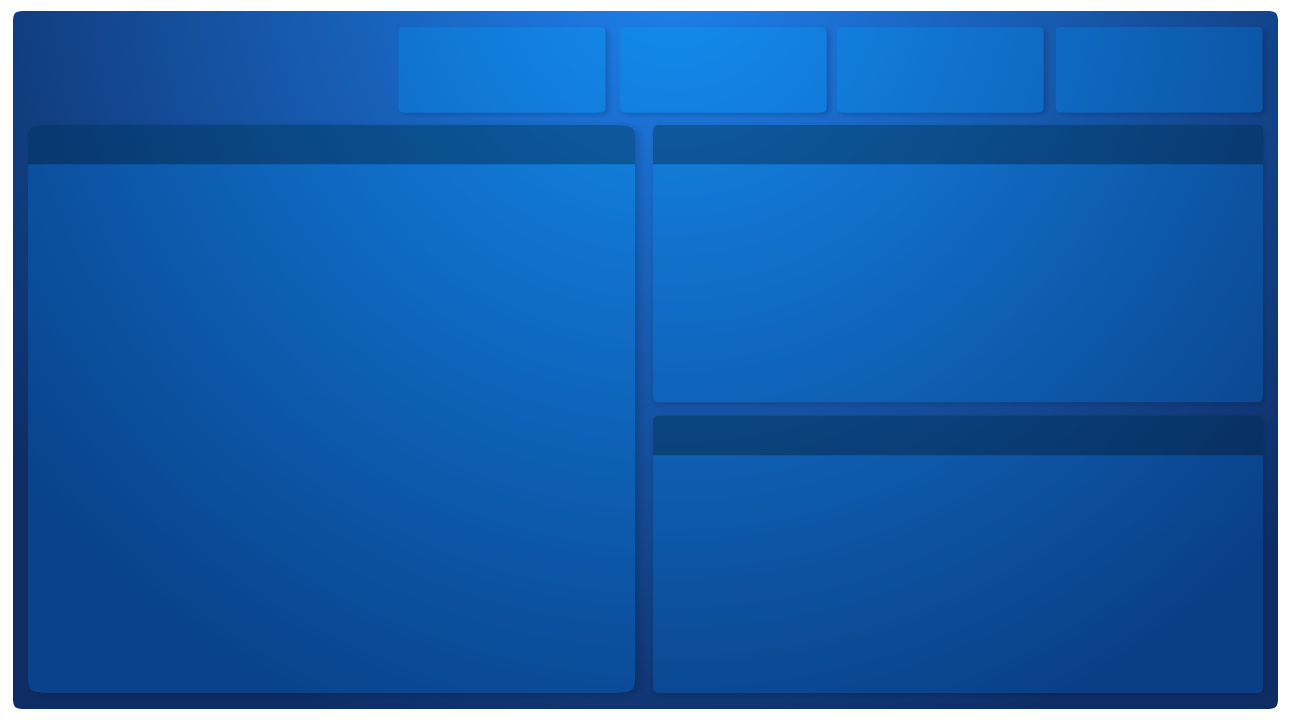

The dashboard page shown, as its layout file describes it:
{"tool":"powerbi","page":{"name":"Página 1","canvas":[1290,720],"ordinal":0},"visuals":[{"type":"simpleImageEBC4593F96F1425FB3D84C5BF02B5075","fields":{"imageURL":["tObras.ObraURL"]},"box":[36.3,170.6,340.1,509.7],"z":0},{"type":"slicer","fields":{"Values":["tObras.ObraNome"]},"box":[402.9,28.4,200.9,78.4],"z":1},{"type":"card","fields":{"Values":["Min(tObras.ObraNome)"]},"box":[85.3,120.6,280.3,42.2],"z":2},{"type":"image","box":[47.1,120.6,79.4,42.2],"z":3},{"type":"clusteredColumnChart","fields":{"Category":["tCalendario.Nome Mês"],"Y":["Sum(tObrasConsolidadas.Custo Planejado)","Sum(tObrasConsolidadas.Custo Real)"]},"box":[402.9,170.6,853.8,224.5],"z":4},{"type":"textbox","box":[474.4,120.6,251.9,42.2],"z":5},{"type":"image","box":[417.6,120.6,67.6,42.2],"z":6},{"type":"lineClusteredColumnComboChart","fields":{"Category":["tCalendario.Nome Mês"],"Y":["Medidas.Soma Planejado","Medidas.Soma Real"],"Y2":["Medidas.Soma Acum. Plan","Medidas.Soma Acum. Real"]},"box":[402.9,458.8,853.8,228.4],"z":7},{"type":"textbox","box":[474.4,410.7,251.9,42.2],"z":8},{"type":"image","box":[417.6,410.7,56.9,42.2],"z":9}]}

Visuals, with their boxes in screenshot pixels (x1, y1, x2, y2), scaled from the page's 1290x720 canvas onto the 1290x720 screenshot:
simpleImageEBC4593F96F1425FB3D84C5BF02B5075 - tObras.ObraURL: locate(36, 171, 376, 680)
slicer - tObras.ObraNome: locate(403, 28, 604, 107)
card - Min(tObras.ObraNome): locate(85, 121, 366, 163)
image: locate(47, 121, 126, 163)
clusteredColumnChart - tCalendario.Nome Mês x Sum(tObrasConsolidadas.Custo Planejado): locate(403, 171, 1257, 395)
textbox: locate(474, 121, 726, 163)
image: locate(418, 121, 485, 163)
lineClusteredColumnComboChart - tCalendario.Nome Mês x Medidas.Soma Planejado: locate(403, 459, 1257, 687)
textbox: locate(474, 411, 726, 453)
image: locate(418, 411, 474, 453)
